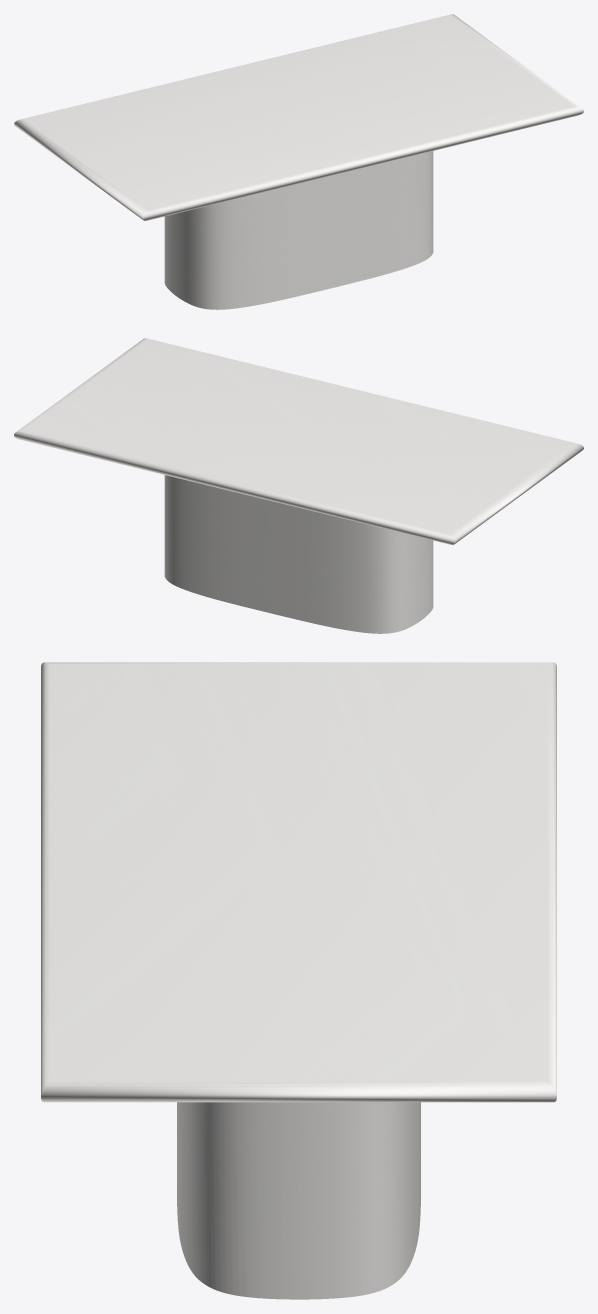
File: purewhite_recta_round_fixed.glb
3 views of the same model, one above another, from view 1: azimuth 30°, elevation 25°; view 2: azimuth 150°, elevation 25°; view 3: azimuth 270°, elevation 25° (orthographic). The views are drawn at different scales.
Parts seen in each view (by area): view 1: round_recta, fixed; view 2: round_recta, fixed; view 3: round_recta, fixed.
Boxes of the visible parts, x1=… form: round_recta: x1=14, y1=14, x2=583, y2=220; fixed: x1=164, y1=151, x2=433, y2=309; round_recta: x1=14, y1=338, x2=583, y2=544; fixed: x1=164, y1=475, x2=433, y2=633; round_recta: x1=41, y1=662, x2=556, y2=1102; fixed: x1=177, y1=1102, x2=420, y2=1299.
Size of the model in its own units: 7.5 by 2.5 by 3.8.
1 material, 1 textured.
